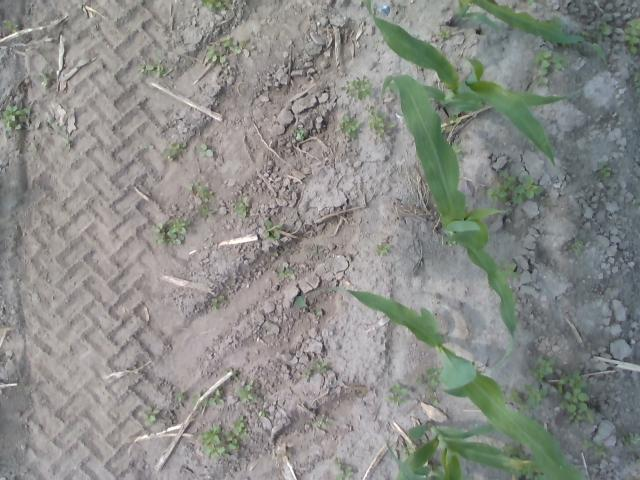Maize: (328, 283, 589, 480), (379, 71, 518, 368), (360, 0, 583, 166), (446, 0, 608, 62), (385, 417, 534, 480)
Weeds: (556, 369, 595, 422), (486, 170, 542, 204), (500, 442, 548, 480), (198, 424, 238, 459), (508, 384, 549, 412), (531, 48, 571, 73), (367, 105, 394, 138), (414, 364, 442, 394), (342, 76, 374, 100), (1, 104, 30, 130), (579, 20, 610, 42), (334, 114, 360, 140), (136, 57, 168, 78), (529, 357, 555, 382), (624, 16, 640, 56), (294, 295, 322, 316), (167, 220, 190, 245), (383, 383, 408, 406), (494, 258, 518, 280), (222, 34, 246, 54), (162, 141, 186, 161), (235, 381, 257, 402), (205, 44, 228, 64), (332, 458, 352, 480), (186, 181, 212, 197), (200, 0, 233, 12), (262, 220, 284, 238), (446, 139, 463, 161), (142, 406, 160, 426), (620, 432, 640, 450), (195, 197, 212, 218), (232, 415, 247, 438), (596, 162, 613, 182), (445, 110, 462, 130), (234, 197, 250, 218), (150, 223, 165, 244), (208, 388, 224, 406), (570, 237, 586, 255), (546, 16, 568, 29), (396, 444, 414, 459), (38, 72, 53, 89), (210, 295, 227, 310), (191, 393, 204, 412), (314, 417, 334, 429), (276, 265, 293, 279), (294, 126, 308, 142), (199, 142, 215, 156), (4, 19, 18, 33), (594, 442, 607, 456), (174, 390, 188, 402), (312, 361, 326, 373), (437, 28, 452, 38), (223, 371, 239, 380), (376, 244, 388, 256), (582, 438, 594, 449), (534, 77, 548, 86), (634, 72, 640, 92), (428, 396, 439, 404), (544, 196, 552, 206), (300, 370, 310, 378), (447, 239, 458, 246), (258, 410, 266, 418), (440, 125, 446, 134), (64, 138, 70, 146), (526, 0, 534, 5), (628, 476, 636, 480), (635, 198, 640, 204), (636, 458, 640, 464)
